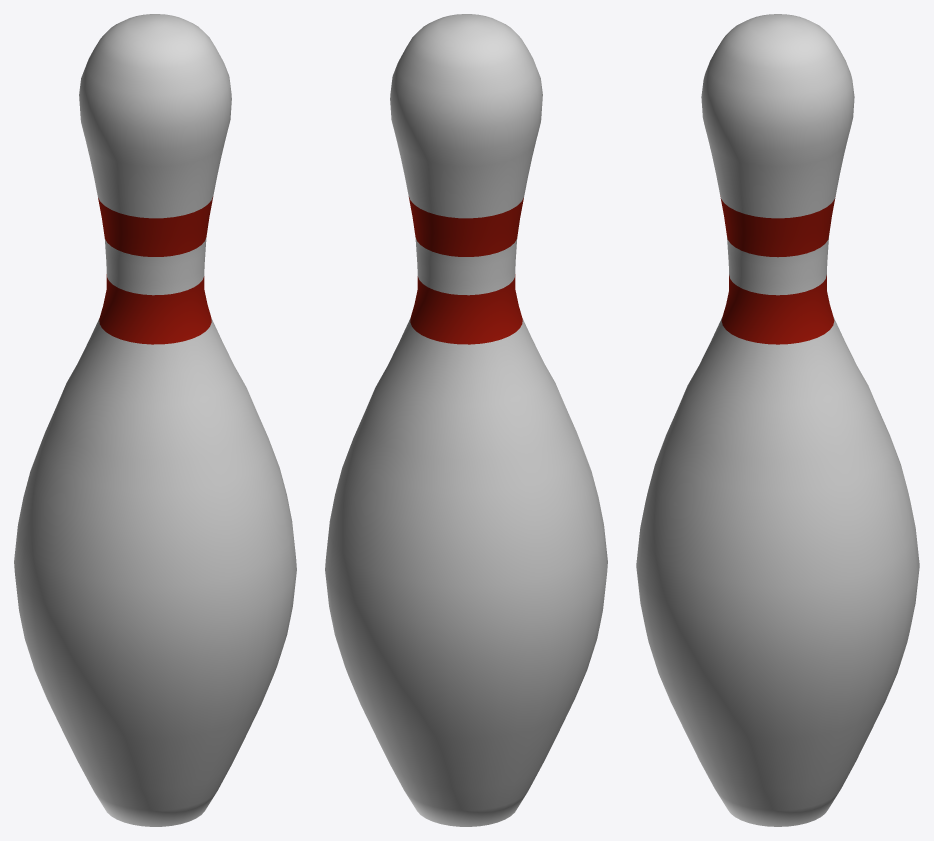
File: Pin.fbx
The picture shows the model from 3 angles, left to right: view 1: azimuth 30°, elevation 25°; view 2: azimuth 150°, elevation 25°; view 3: azimuth 270°, elevation 25°; orthographic projection.
Parts seen in each view (by area): view 1: Circle; view 2: Circle; view 3: Circle.
Part boxes in pixels (box(x1,y1,x2,y2)): Circle: box(14, 14, 296, 826); Circle: box(325, 14, 607, 826); Circle: box(636, 14, 919, 826).
Size of the model in its own units: 249 by 758 by 249.
